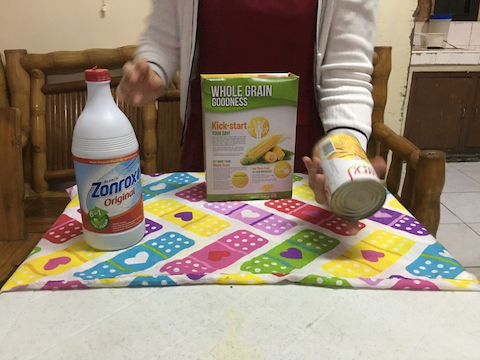bottle: (66, 63, 158, 253)
box: (196, 67, 298, 202)
can: (310, 128, 388, 218)
grab: (303, 149, 329, 205)
